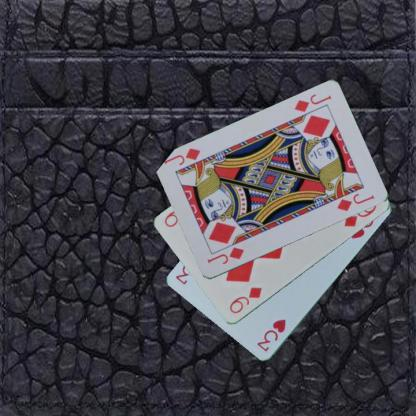3h: (254, 316, 287, 354)
9d: (226, 284, 264, 316)
Jd: (291, 91, 333, 114), (205, 245, 245, 266)
